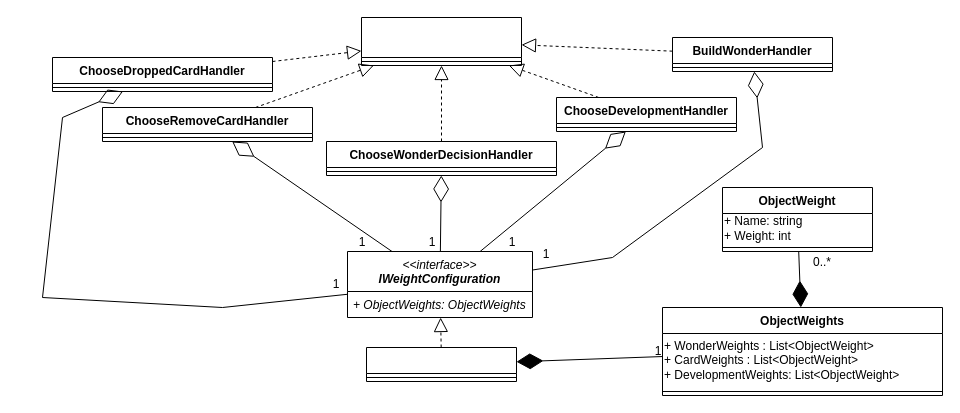
Some shapes in this 960 by 413 pixel diagram are drawn without their labels. Each missing label, with the centre of its shape:
<<interface>> IDecisionHandler: [441,41]
WeightConfiguration: [441,364]
